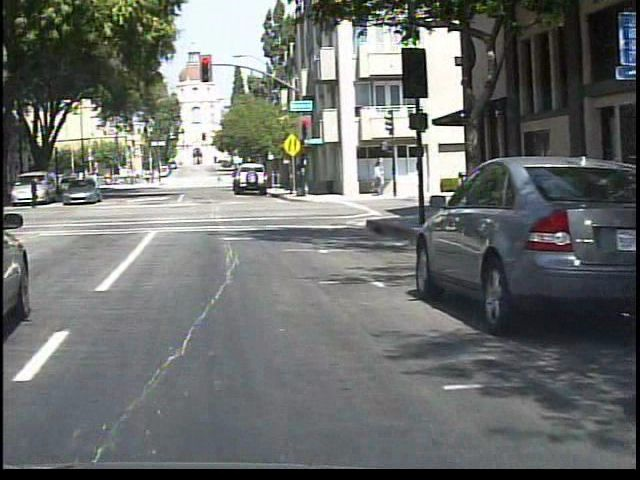person: (26, 172, 41, 212), (212, 172, 226, 189), (4, 175, 5, 213)
